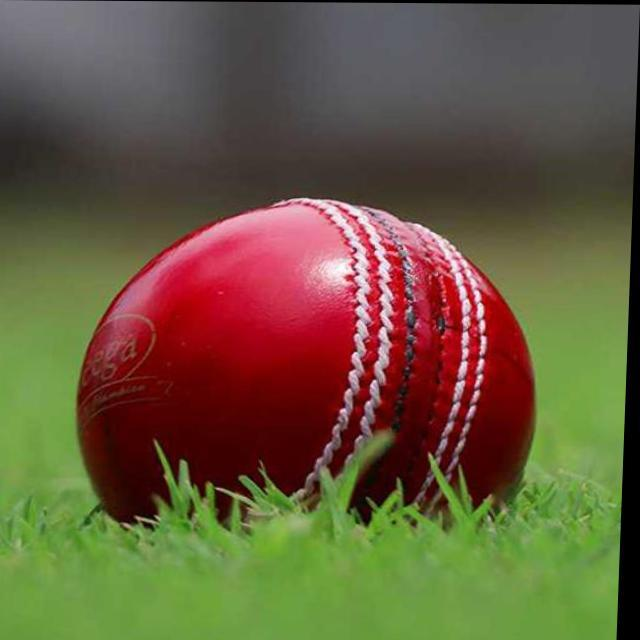cricket ball: (77, 197, 540, 527)
